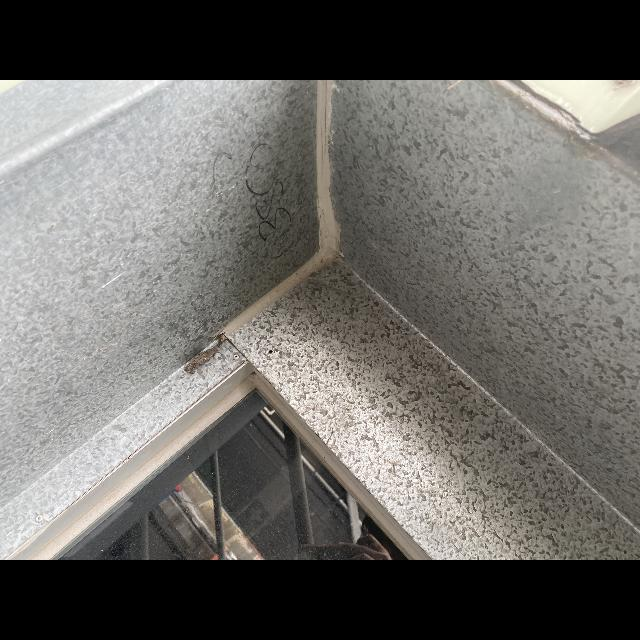Aluminium: (8, 360, 431, 560)
Ferrous Metal: (522, 80, 640, 132)
Galvanized Steel: (0, 80, 640, 560)
